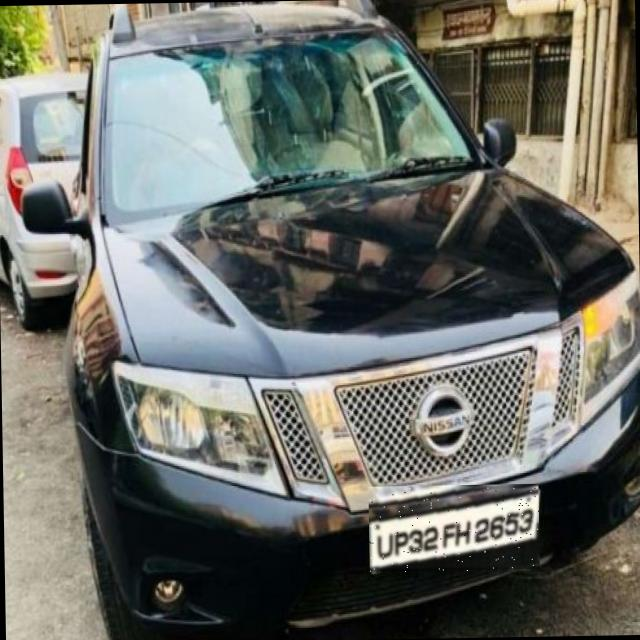Plate: (369, 485, 540, 574)
